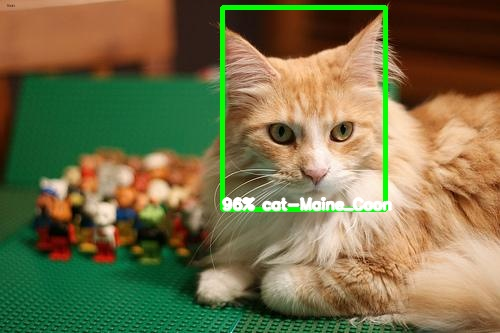cat-Maine_Coon: (223, 7, 386, 205)
